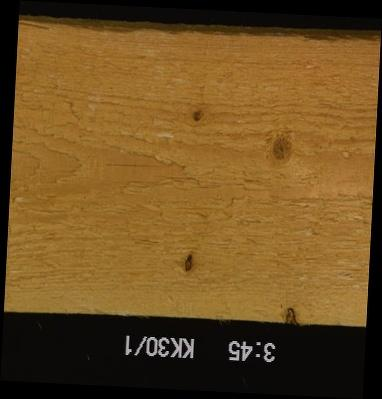dry_knot: (183, 253, 193, 273)
edge_knot: (281, 307, 298, 324)
small_knot: (191, 109, 204, 123)
sound_knot: (267, 129, 295, 165)
wave: (17, 22, 379, 48)
